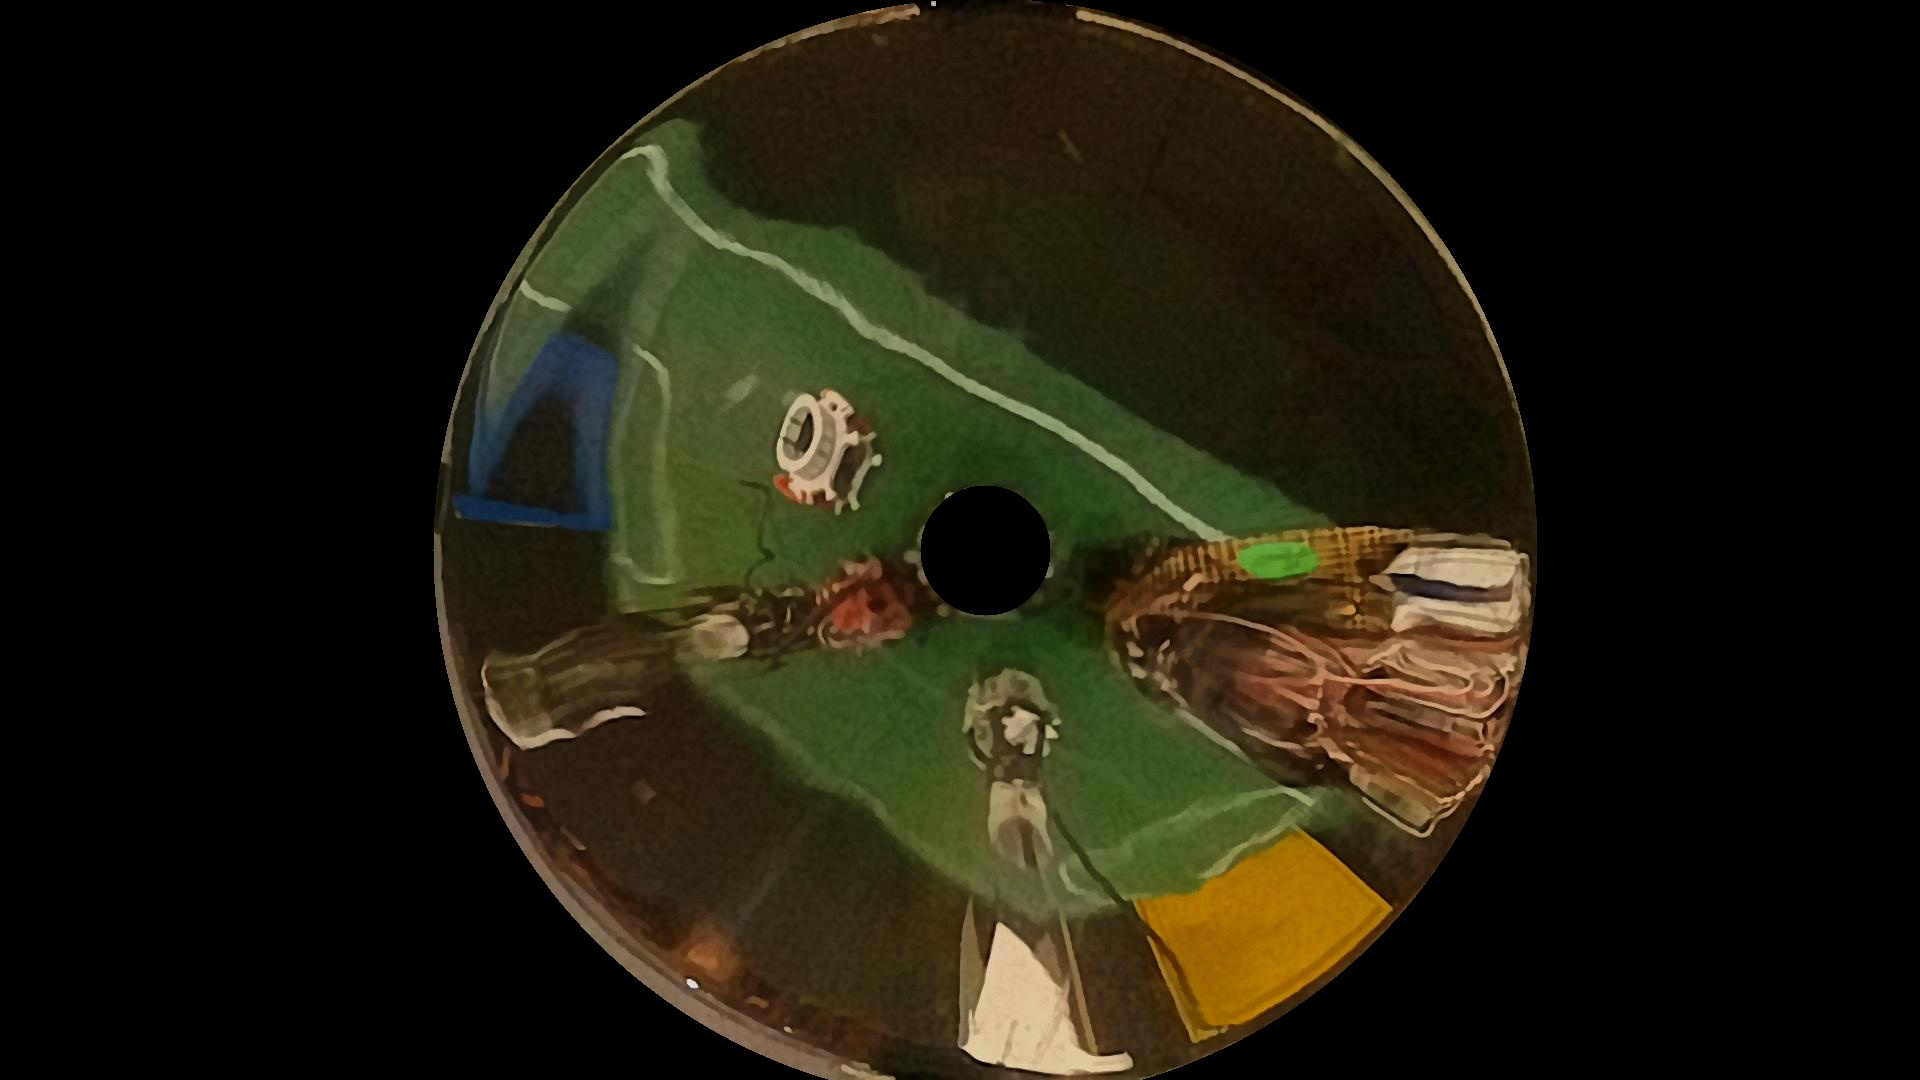blue-goal: (467, 328, 625, 500)
robots: (1108, 525, 1465, 766), (952, 661, 1093, 1048), (520, 579, 814, 694), (775, 393, 864, 504), (815, 554, 911, 651)
yellow-goal: (1135, 841, 1412, 1006)
